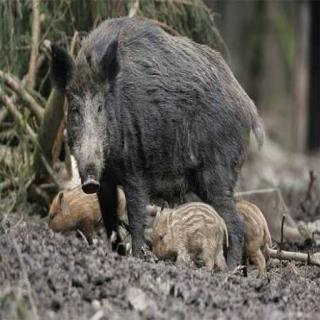Pig: (46, 12, 286, 280)
